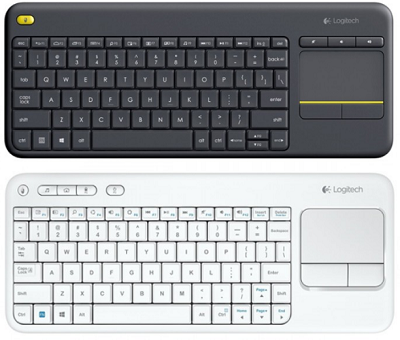logitech-keyboard-k400: (3, 3, 392, 161)
